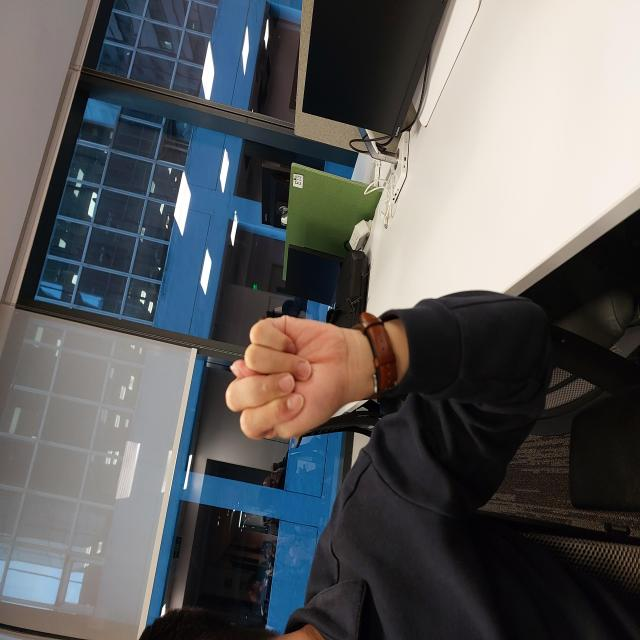N: (200, 225, 326, 336)
